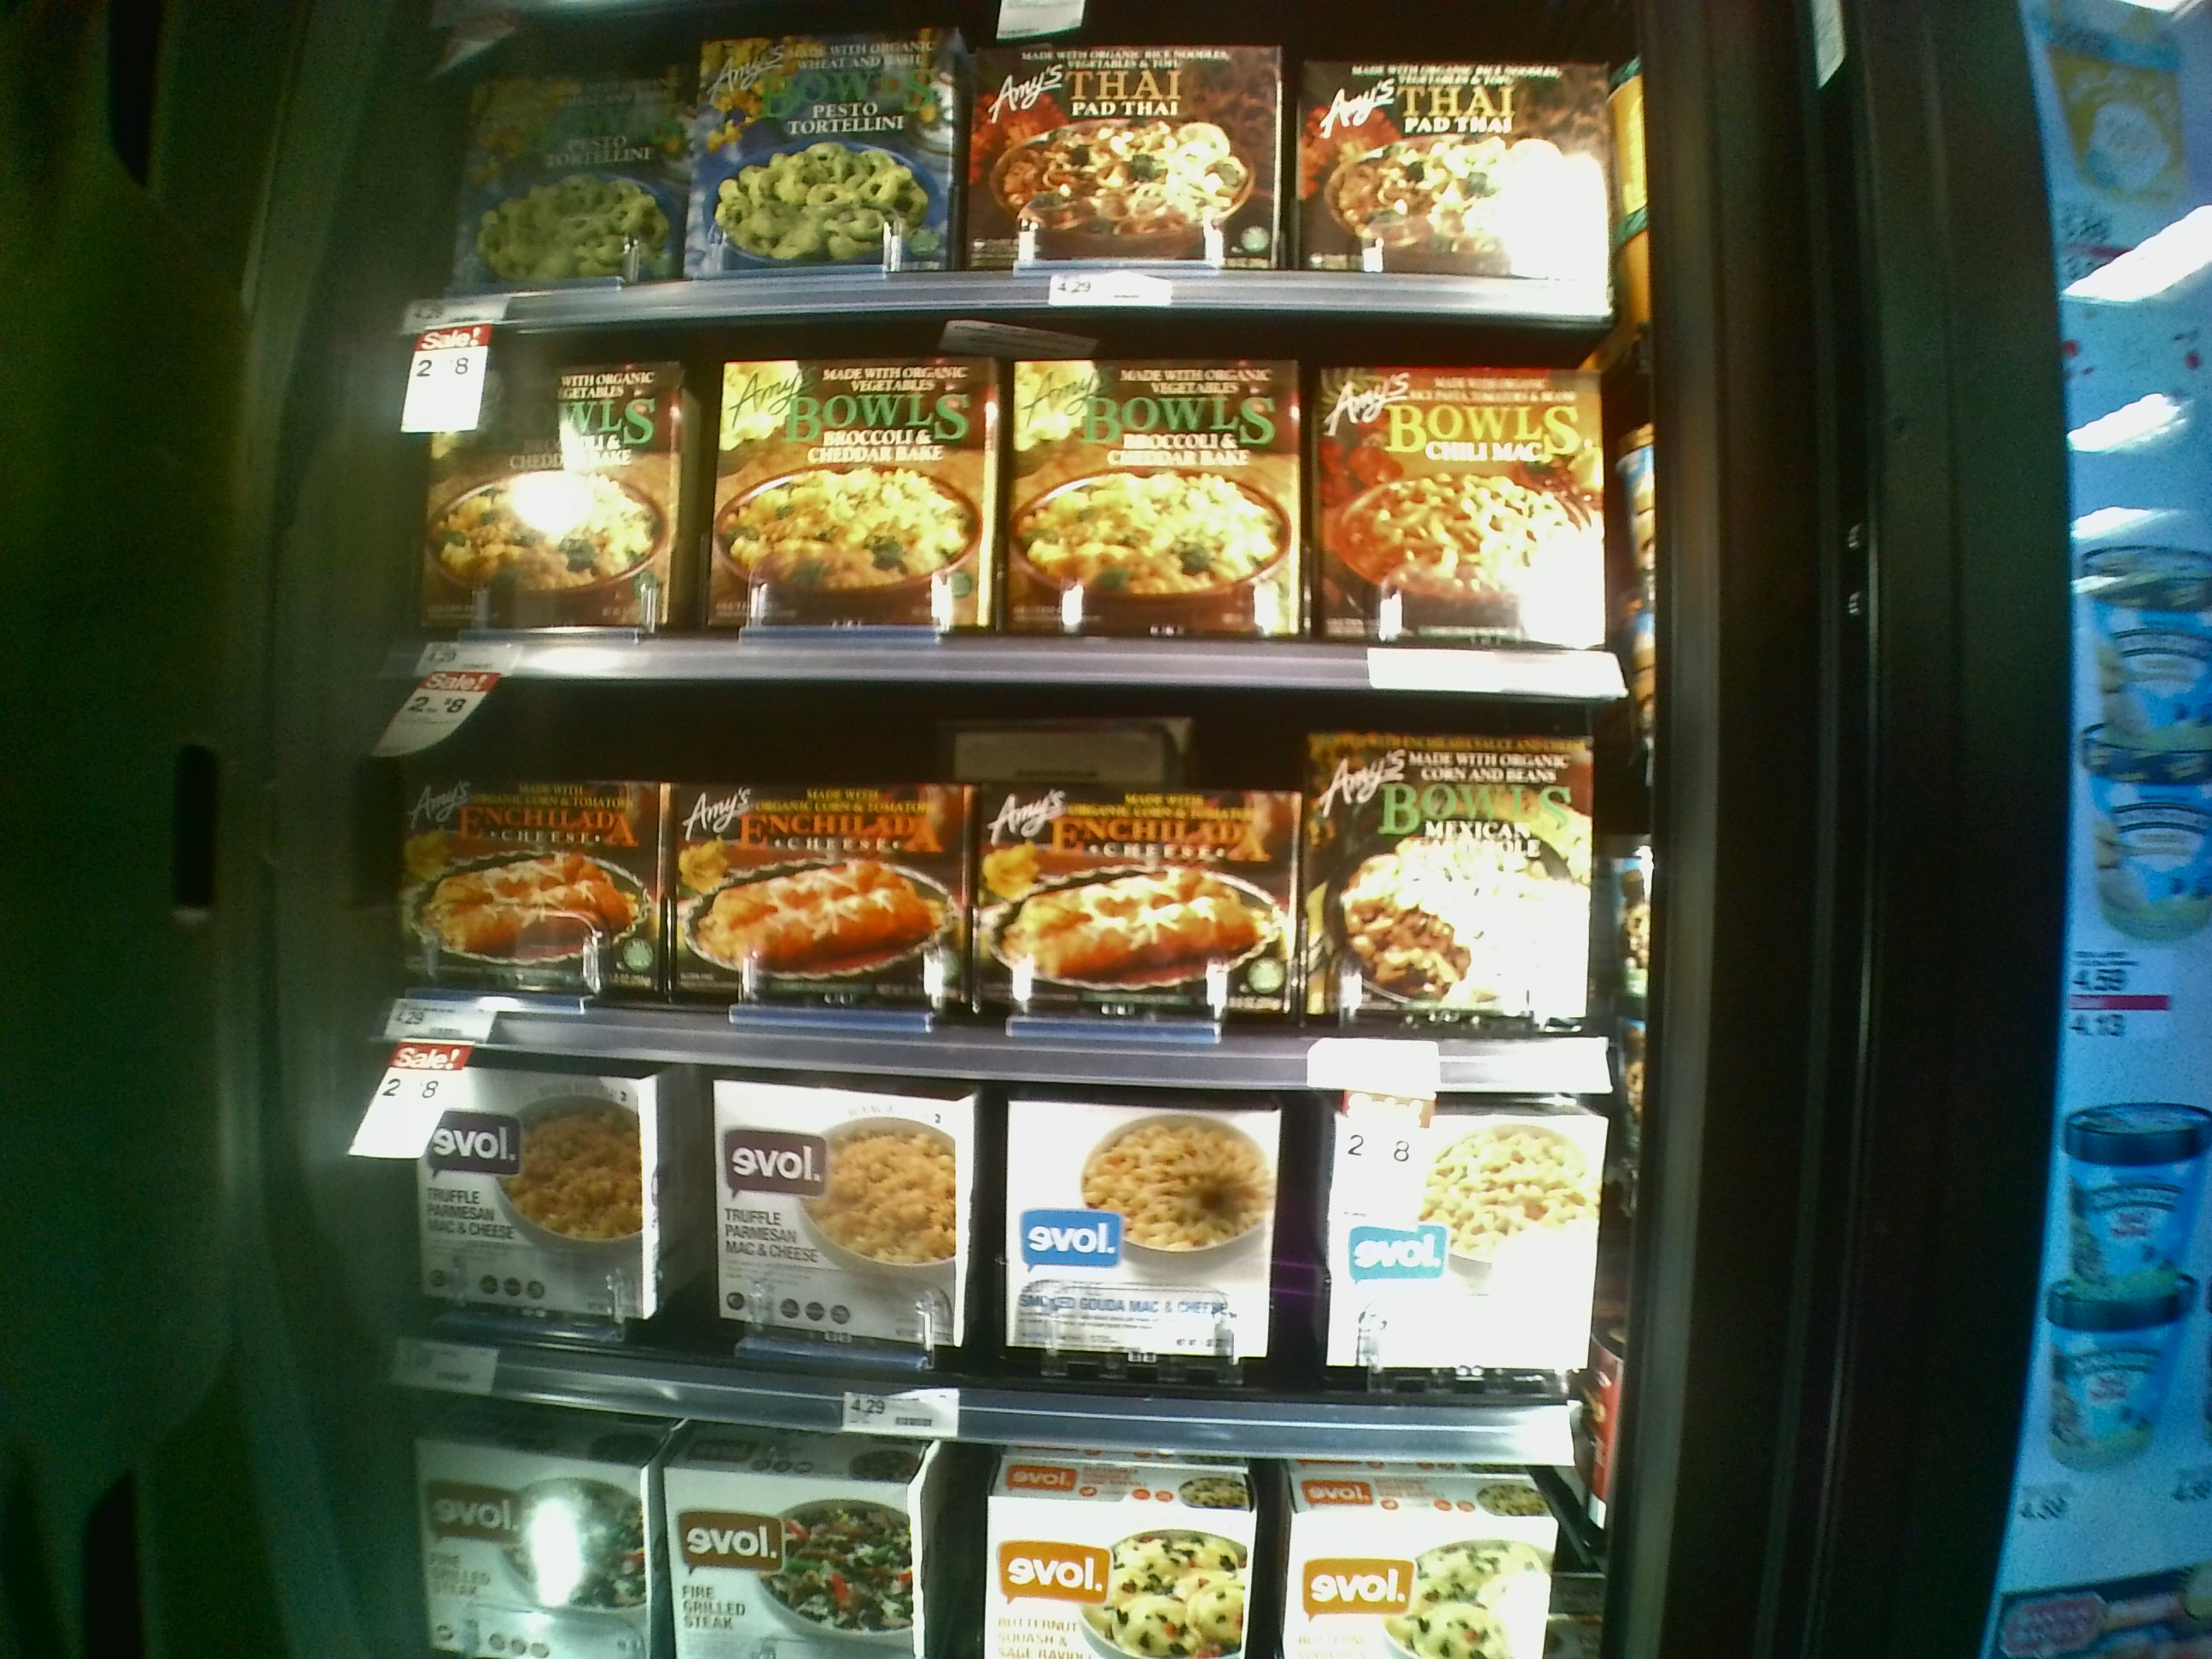shelf: (399, 314, 1637, 699), (397, 692, 1627, 1068), (402, 1073, 1608, 1455), (430, 26, 1637, 314)
